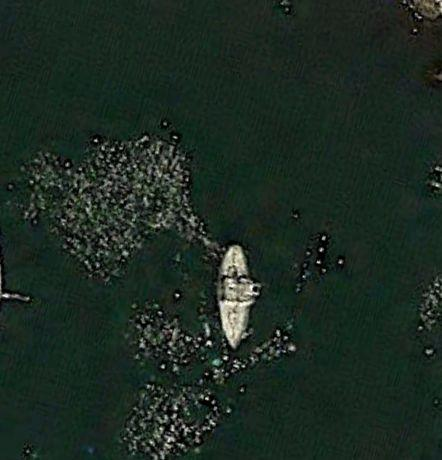Ships: (208, 226, 258, 363)
